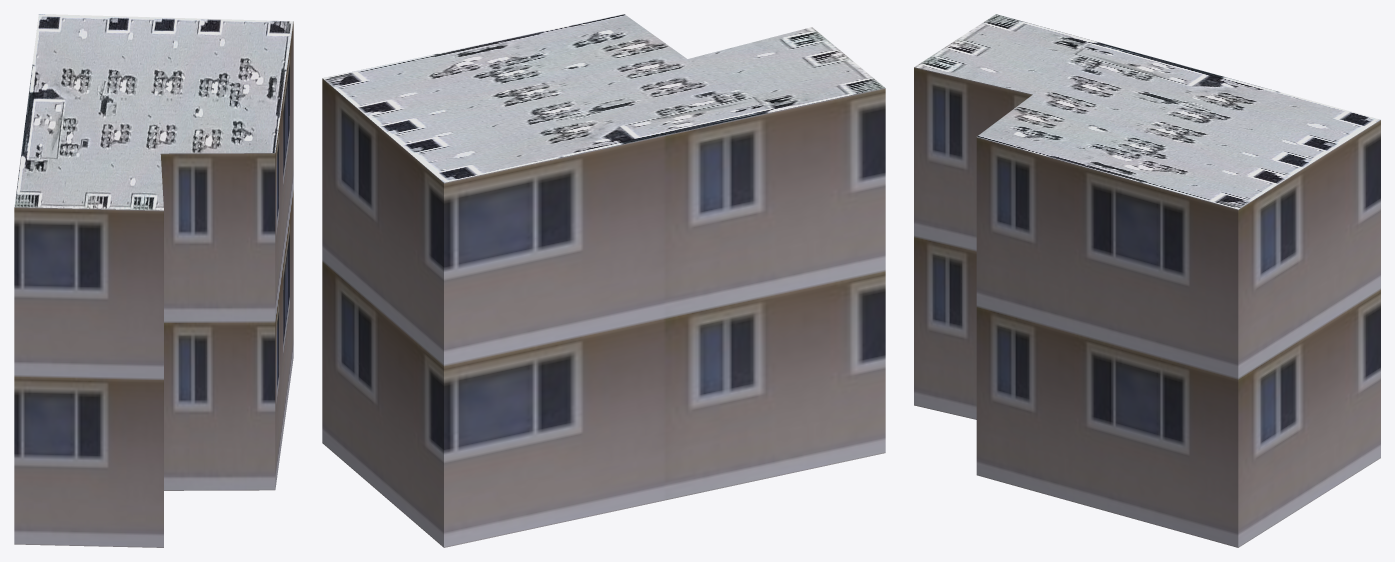
The model's file is ResTex__3799.fbx.
The picture shows the model from 3 angles, left to right: view 1: azimuth 30°, elevation 25°; view 2: azimuth 150°, elevation 25°; view 3: azimuth 270°, elevation 25°; orthographic projection. The views are drawn at different scales.
Parts seen in each view (by area): view 1: CityEngineMaterial_21_m, CityEngineMaterial_m; view 2: CityEngineMaterial_21_m, CityEngineMaterial_m; view 3: CityEngineMaterial_21_m, CityEngineMaterial_m.
Boxes of the visible parts, x1,y1,x2,y2 form: CityEngineMaterial_21_m: [14, 21, 293, 547]; CityEngineMaterial_m: [14, 14, 293, 210]; CityEngineMaterial_21_m: [322, 78, 885, 547]; CityEngineMaterial_m: [322, 14, 884, 182]; CityEngineMaterial_21_m: [914, 67, 1380, 547]; CityEngineMaterial_m: [914, 14, 1380, 209].
Bounding box in the file's own units: 7.44 × 6 × 7.5.
2 materials, 2 textured.
